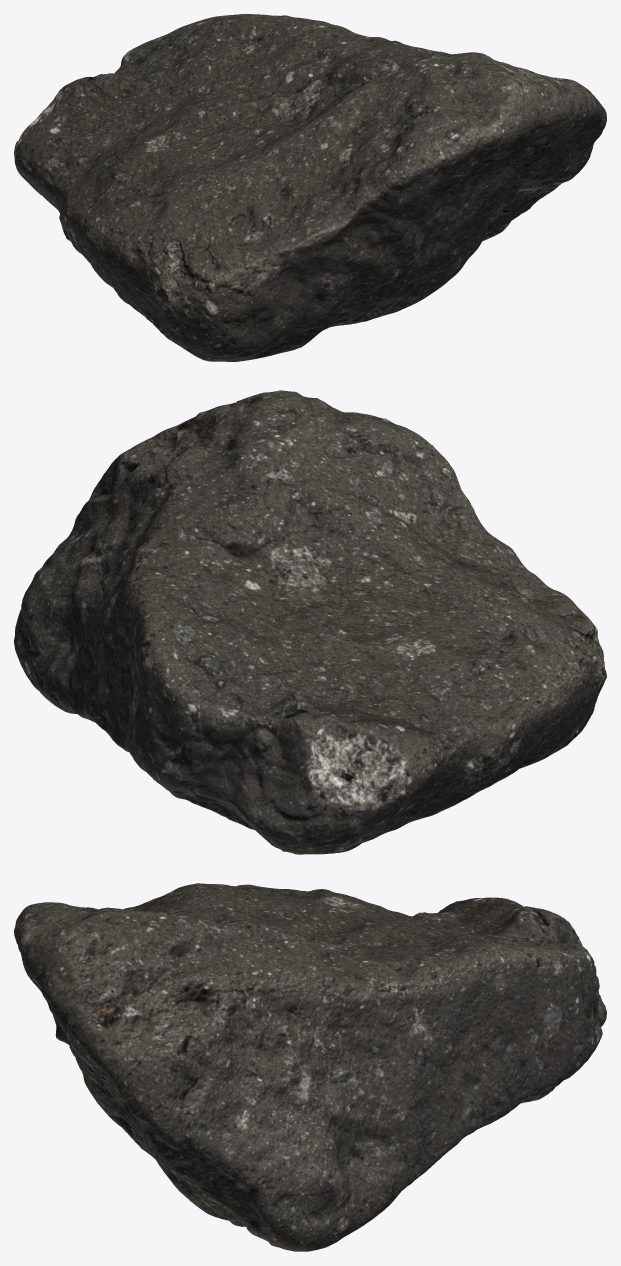
The model's file is 10021-79_SFM_Web-Resolution-Model_Coordinate-Registered.obj.
3 renders of one model, top to bottom at view 1: azimuth 30°, elevation 25°; view 2: azimuth 150°, elevation 25°; view 3: azimuth 270°, elevation 25°, orthographic. The views are drawn at different scales.
Bounding box in the file's own units: 0.0333 × 0.0182 × 0.0303.
Materials: 1 (1 with a texture image).
